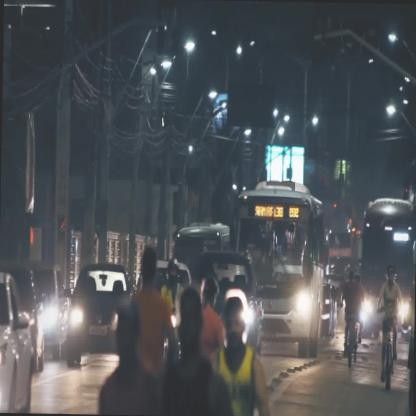bus: (235, 178, 324, 361)
car: (64, 264, 134, 370)
motorcycle: (376, 264, 400, 390), (339, 273, 363, 367)
